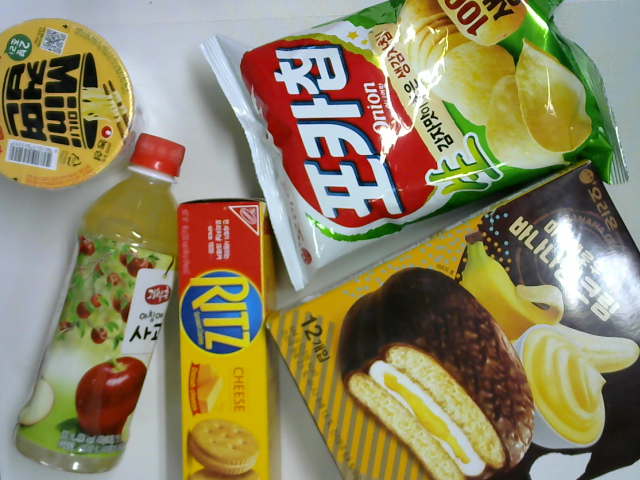Choco_Pie_Banana: (263, 155, 640, 480)
Hejangmini: (1, 16, 141, 194)
Morning_Apple_500ml: (7, 134, 190, 471)
Pocachip_Onion: (196, 1, 628, 290)
Ritz_Sand_Cracker: (175, 199, 280, 480)
